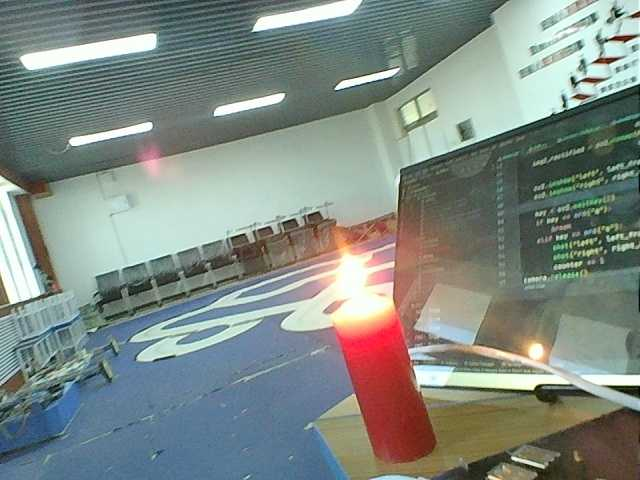candle: (329, 324, 444, 471)
fire: (325, 249, 389, 317)
